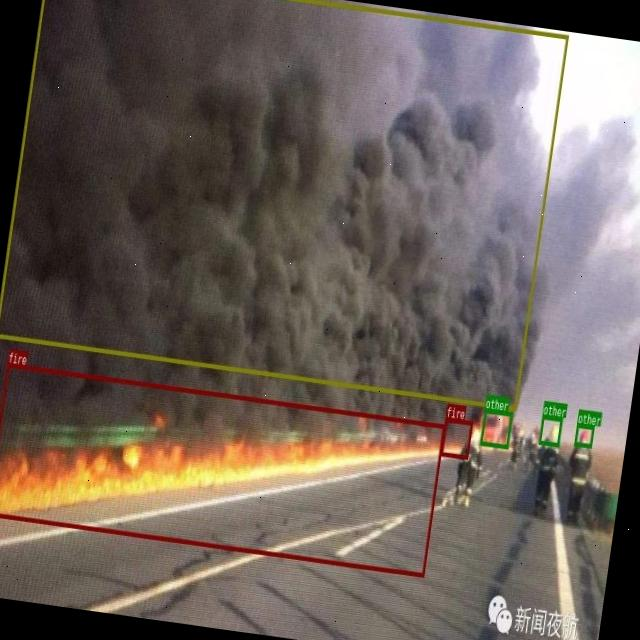fire: (0, 363, 444, 576), (440, 416, 472, 458)
smoke: (0, 0, 569, 409)
